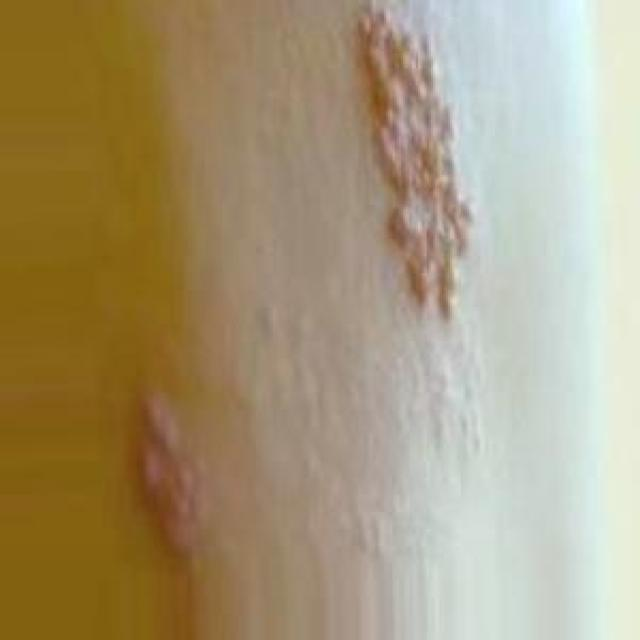Shingles: (352, 1, 476, 323), (134, 382, 210, 566)
